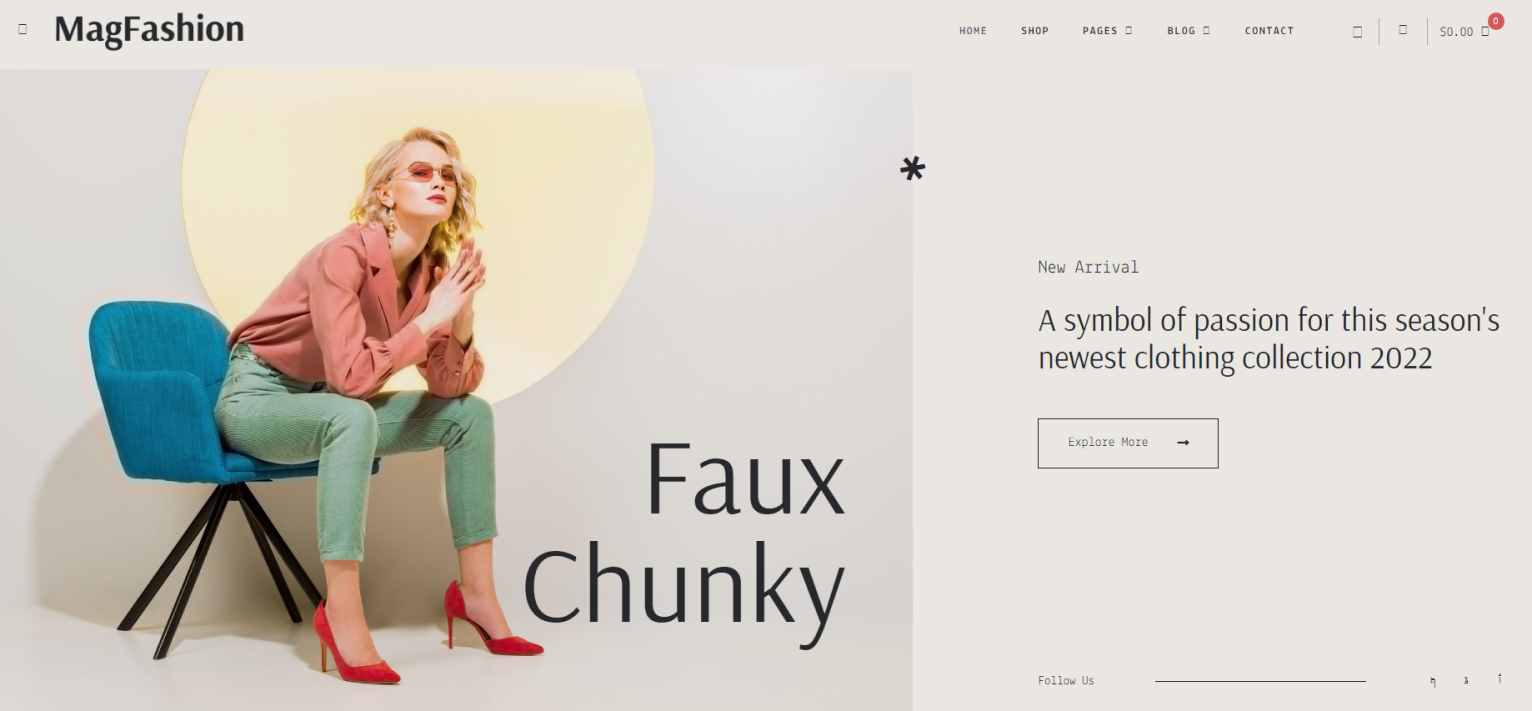menu: (3, 6, 1523, 135)
